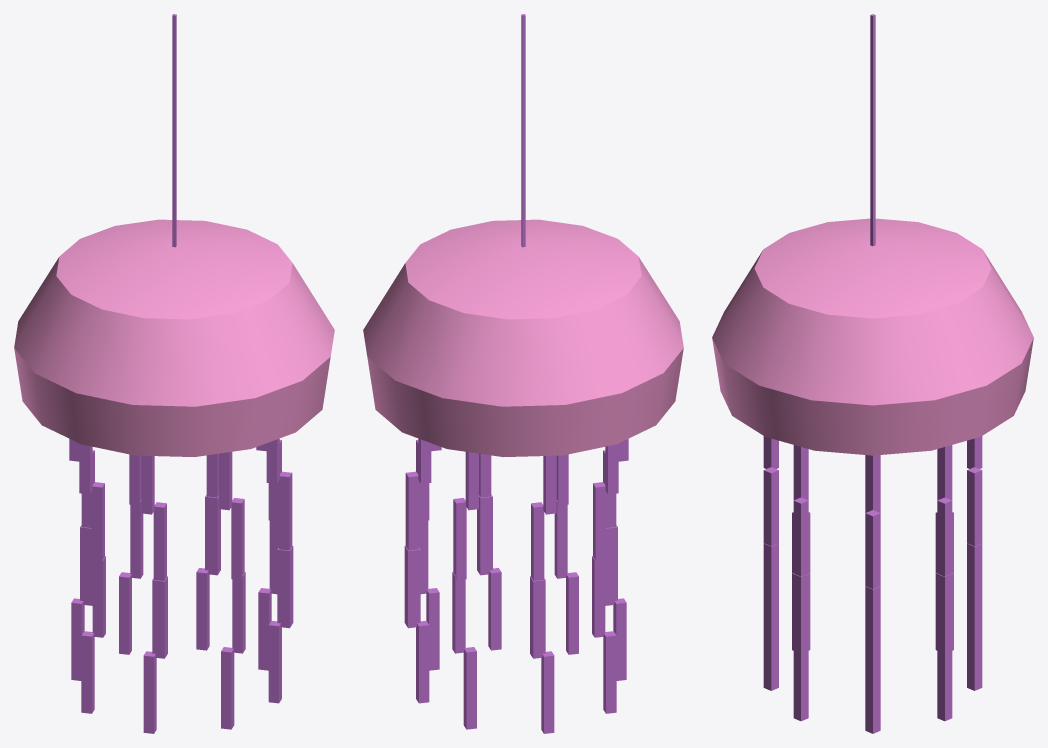
File: HangReef.fbx
The picture shows the model from 3 angles, left to right: view 1: azimuth 30°, elevation 25°; view 2: azimuth 150°, elevation 25°; view 3: azimuth 270°, elevation 25°; orthographic projection.
Parts seen in each view (by area): view 1: HangReef; view 2: HangReef; view 3: HangReef.
Boxes of the visible parts, left/top/right/bottom form: HangReef: left=14, top=14, right=334, bottom=733; HangReef: left=363, top=14, right=683, bottom=733; HangReef: left=712, top=14, right=1033, bottom=733.
Bounding box in the file's own units: 380 × 875 × 380.
